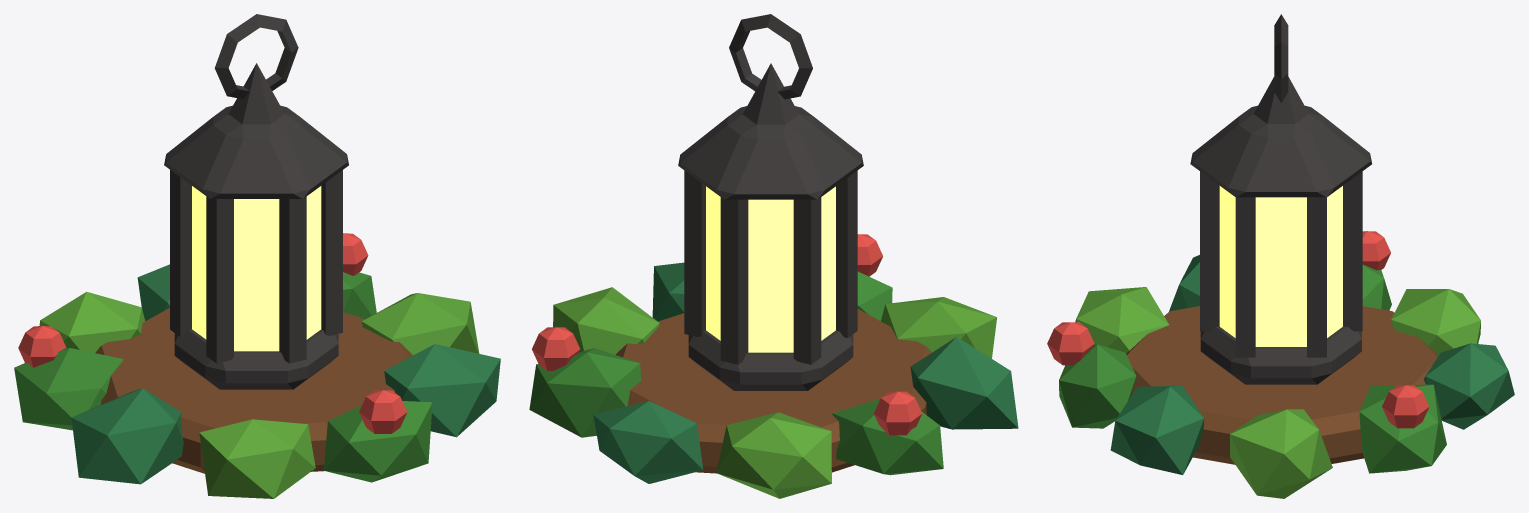
Rendered from table_lantern.glb.
3 renders of one model, left to right at view 1: azimuth 30°, elevation 25°; view 2: azimuth 150°, elevation 25°; view 3: azimuth 270°, elevation 25°, orthographic. The views are drawn at different scales.
Visible parts, largest first — view 1: table_lantern; view 2: table_lantern; view 3: table_lantern.
Boxes of the visible parts, x1=… form: table_lantern: x1=14, y1=14, x2=500, y2=498; table_lantern: x1=529, y1=14, x2=1018, y2=498; table_lantern: x1=1047, y1=14, x2=1514, y2=498.
Size of the model in its own units: 0.3669 by 0.3364 by 0.3537.
